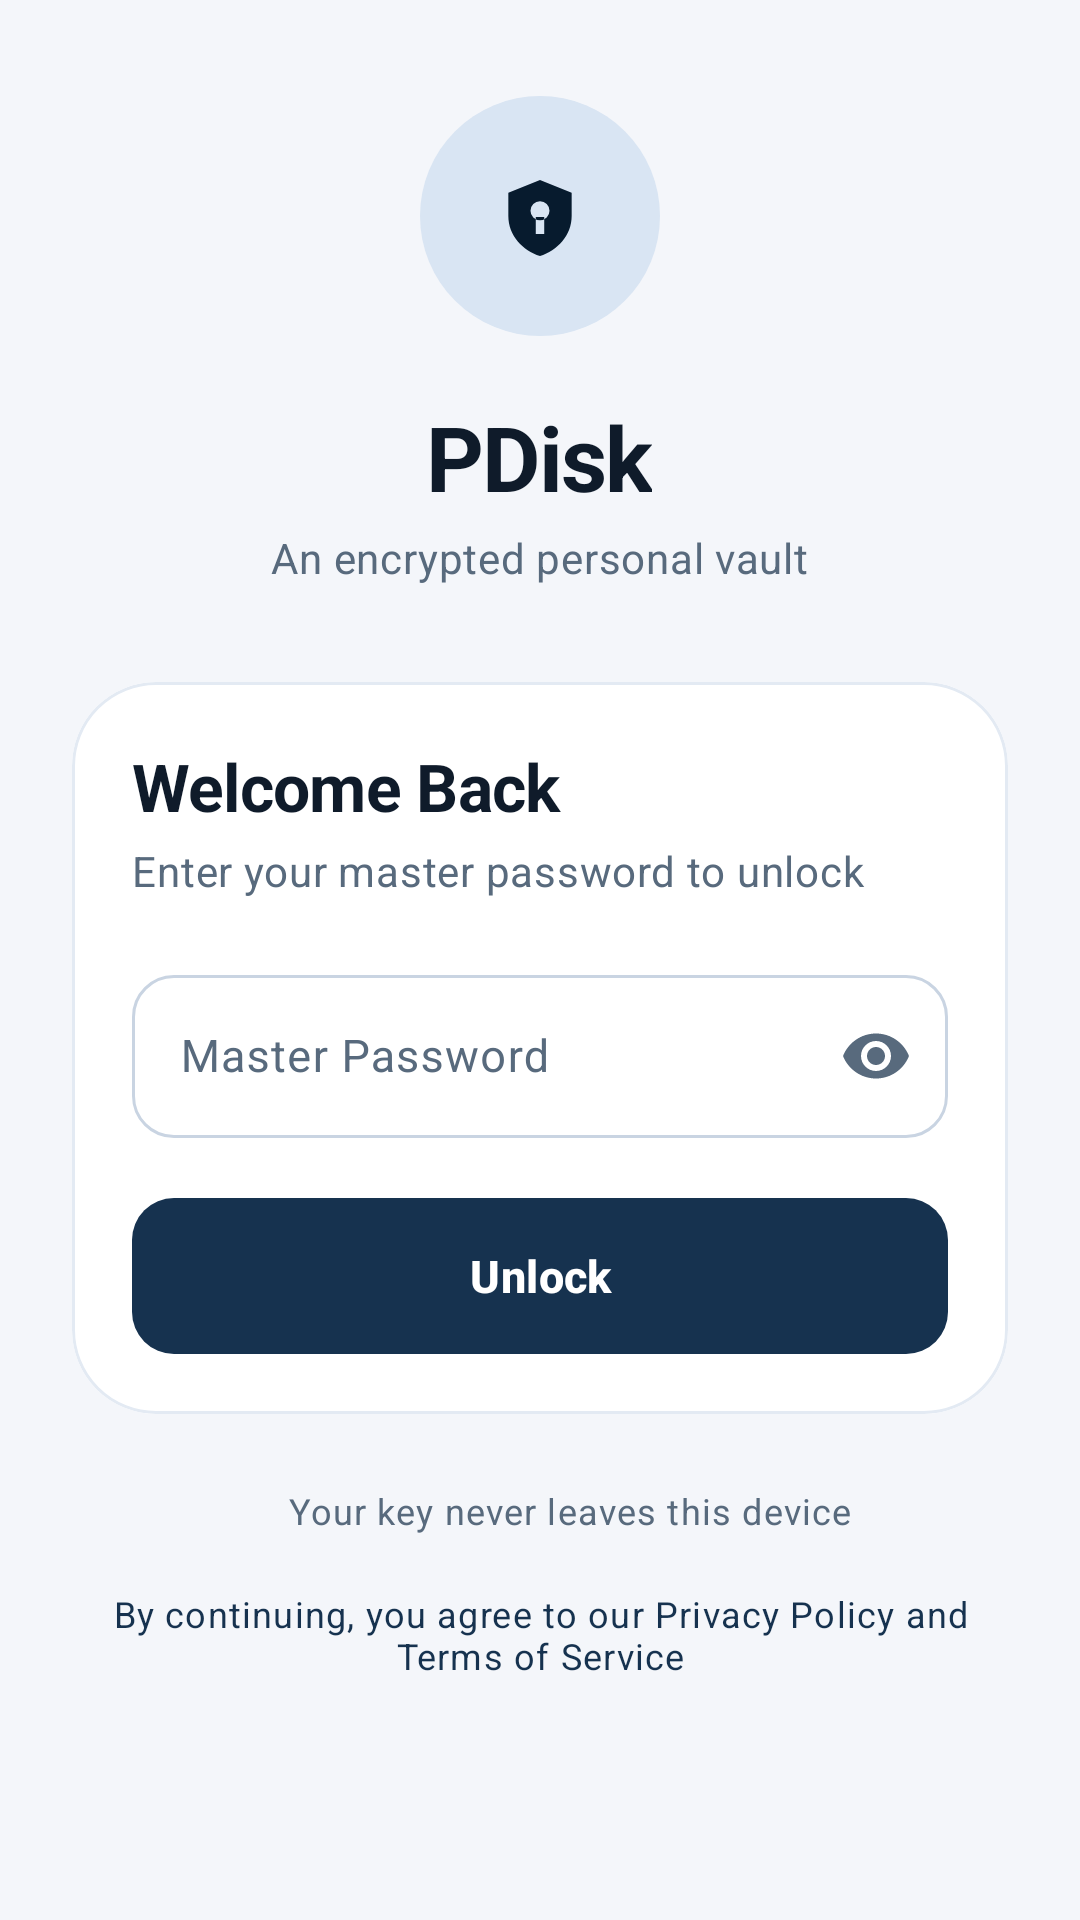

Icon click points for this 1080*1920 phone screenshot, format (x,y):
brand mark: (540,218)
